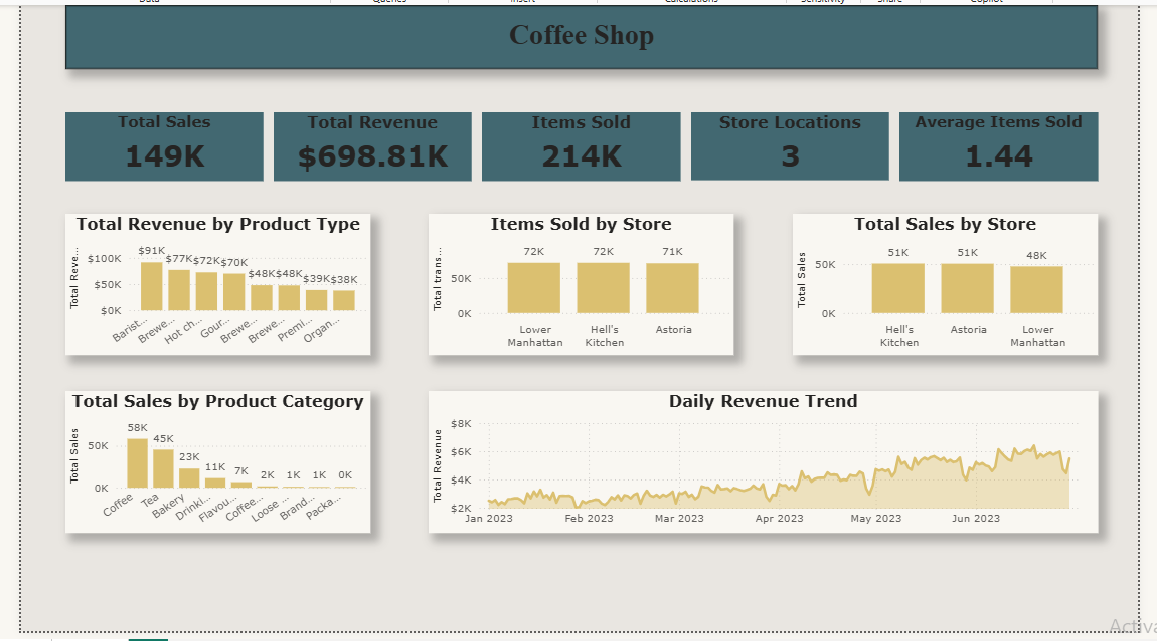

The dashboard page shown, as its layout file describes it:
{"tool":"powerbi","page":{"name":"Page 1","canvas":[1280,720],"ordinal":0},"visuals":[{"type":"shape","title":"h","box":[51,0,1184,74],"z":0},{"type":"textbox","box":[51,12,1184,62],"z":1000},{"type":"card","title":"Average Items Sold","fields":{"Values":["Calculations.Average Transaction Quantity"]},"box":[1007.4,123.4,227.7,78.7],"z":3000},{"type":"card","title":"Store Locations","fields":{"Values":["Calculations.Total Store Location"]},"box":[768.1,123.4,227.3,78.5],"z":6000},{"type":"card","title":"Total Sales","fields":{"Values":["Calculations.Total Sales"]},"box":[51.1,123.4,226.6,78.7],"z":7000},{"type":"card","title":"Total Revenue","fields":{"Values":["Calculations.Total Revenue"]},"box":[289.7,123.4,226.6,78.7],"z":8000},{"type":"columnChart","title":"Total Revenue by Product Type","fields":{"Category":["Fact Coffee Sales.product_type"],"Y":["Calculations.Total Revenue"]},"box":[51,240,350,163],"z":9000},{"type":"lineChart","title":"Daily Revenue Trend","fields":{"Category":["Fact Coffee Sales.transaction_date"],"Y":["Calculations.Total Revenue"]},"box":[467,444,768,163],"z":10000},{"type":"columnChart","title":"Total Sales by Store","fields":{"Category":["Fact Coffee Sales.store_location"],"Y":["Calculations.Total Sales"]},"box":[885,240,350,163],"z":11000},{"type":"columnChart","title":"Items Sold by Store","fields":{"Category":["Fact Coffee Sales.store_location"],"Y":["Calculations.Total transaction quantity"]},"box":[467,240,350,163],"z":12000},{"type":"columnChart","title":"Total Sales by Product Category","fields":{"Y":["Calculations.Total Sales"],"Category":["Fact Coffee Sales.product_category"]},"box":[51,444,350,163],"z":13000},{"type":"card","title":"Items Sold","fields":{"Values":["Calculations.Total transaction quantity"]},"box":[528.4,123.4,227.7,78.7],"z":14000}]}

Visuals, with their boxes in screenshot pixels (x1, y1, x2, y2):
"h" shape: (60,0,1101,65)
textbox: (60,11,1101,65)
"Average Items Sold" card: (901,108,1101,178)
"Store Locations" card: (690,108,890,177)
"Total Sales" card: (60,108,259,178)
"Total Revenue" card: (270,108,469,178)
"Total Revenue by Product Type" columnChart: (60,211,368,354)
"Daily Revenue Trend" lineChart: (426,390,1101,534)
"Total Sales by Store" columnChart: (793,211,1101,354)
"Items Sold by Store" columnChart: (426,211,733,354)
"Total Sales by Product Category" columnChart: (60,390,368,534)
"Items Sold" card: (480,108,680,178)
